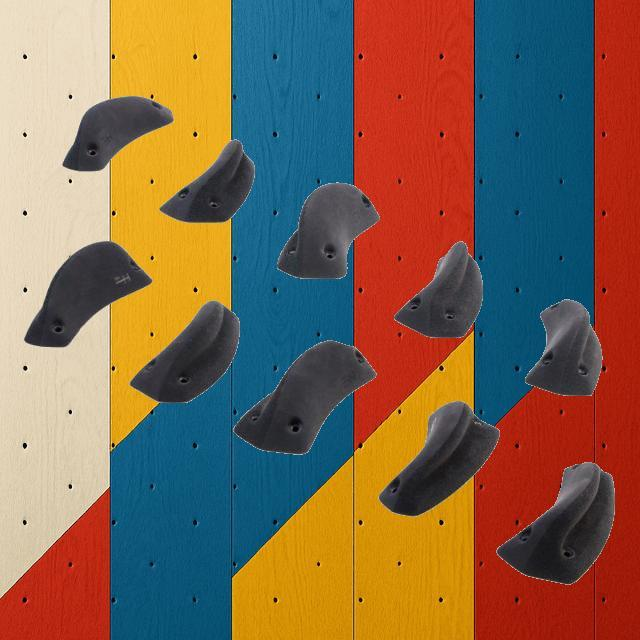Crimp: (233, 338, 377, 454), (495, 460, 615, 584), (378, 400, 500, 516), (24, 240, 152, 348), (128, 299, 240, 403), (276, 181, 380, 279), (392, 240, 483, 338), (62, 94, 174, 172), (159, 138, 255, 222), (524, 298, 602, 396)
